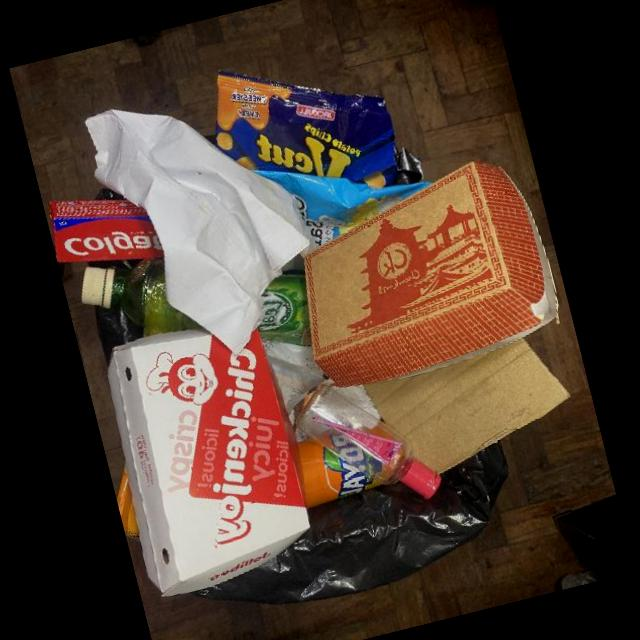bao_bi_thuc_pham: (215, 69, 424, 187), (251, 169, 431, 247)
carton: (303, 160, 558, 386), (362, 337, 570, 473), (49, 198, 164, 263)
chai_nhua: (80, 258, 311, 346)
chai_thuy_tinh: (294, 383, 441, 498)
giay: (85, 108, 317, 356)
